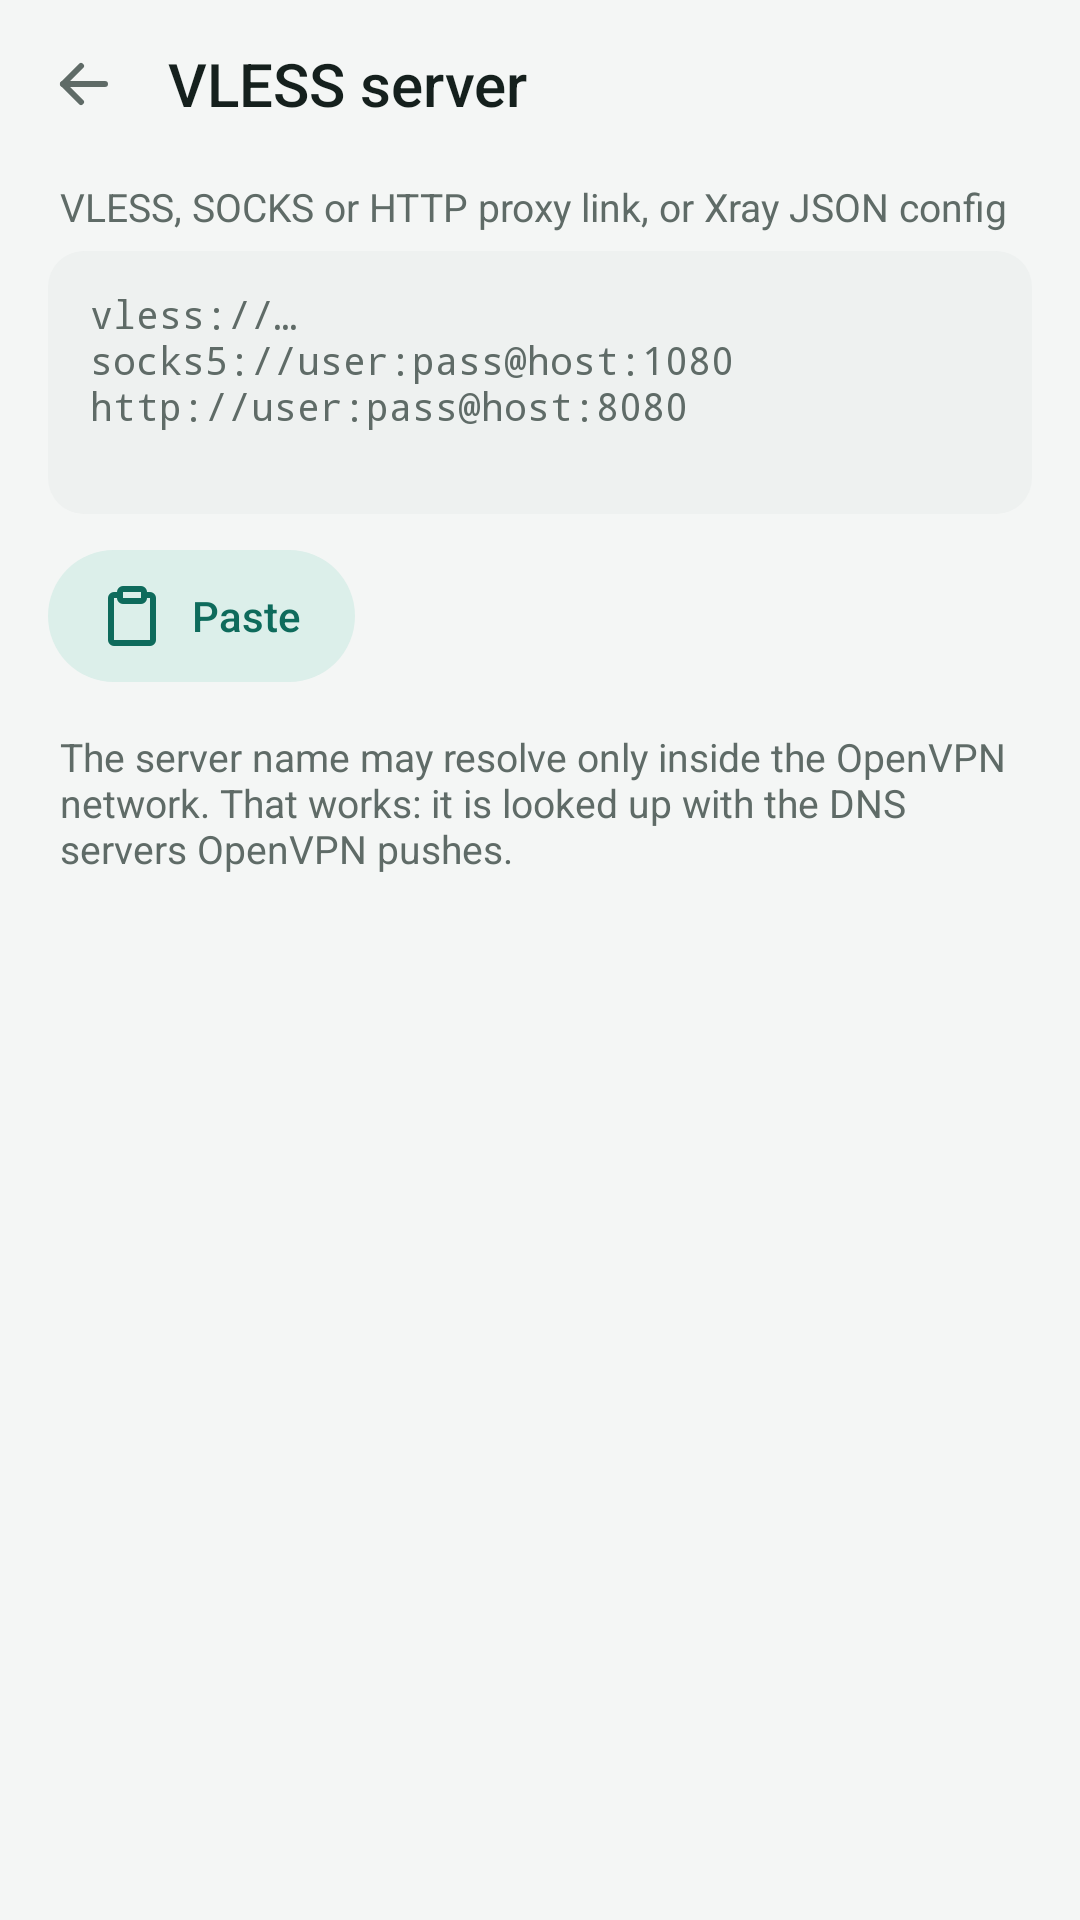

Named icons in this screenshot (1080×1920) and their bounding boxes, Rect(x1, y1, x2, y2):
Back: Rect(60, 63, 108, 105)
